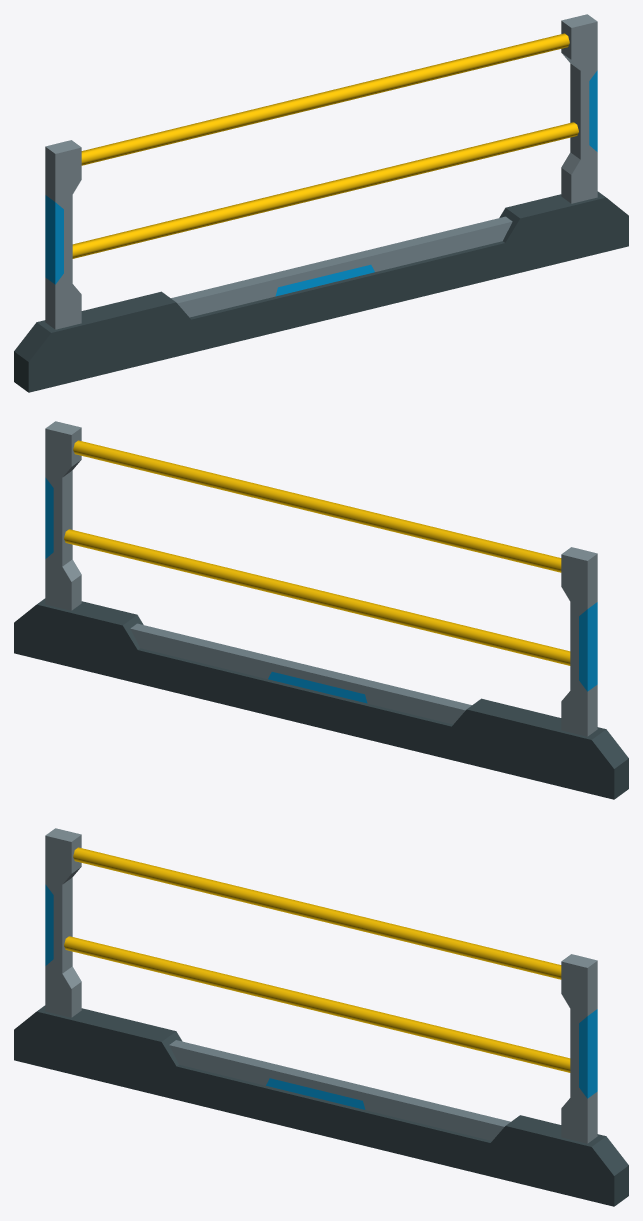
Rendered from Fence_type_C_008.fbx.
3 views of the same model, one above another, from view 1: azimuth 30°, elevation 25°; view 2: azimuth 150°, elevation 25°; view 3: azimuth 330°, elevation 25° (orthographic).
Visible parts, largest first — view 1: Fence_type_C_008; view 2: Fence_type_C_008; view 3: Fence_type_C_008.
Boxes of the visible parts, x1,y1,x2,y2 form: Fence_type_C_008: (14, 14, 628, 392); Fence_type_C_008: (14, 421, 628, 799); Fence_type_C_008: (14, 828, 628, 1206).
Bounding box in the file's own units: 389 × 16.53 × 142.
